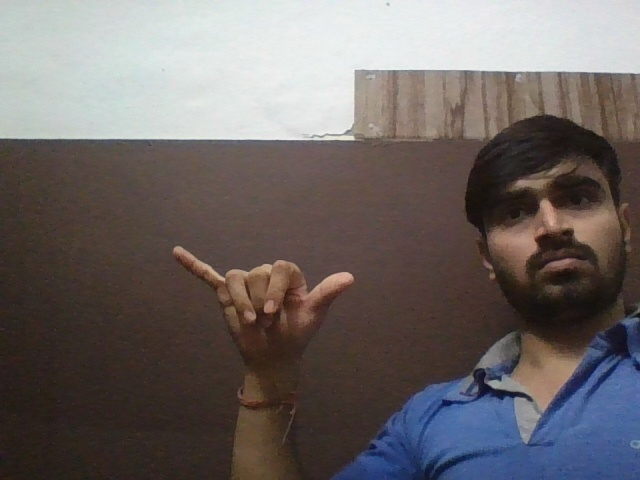Y: (161, 228, 365, 378)
